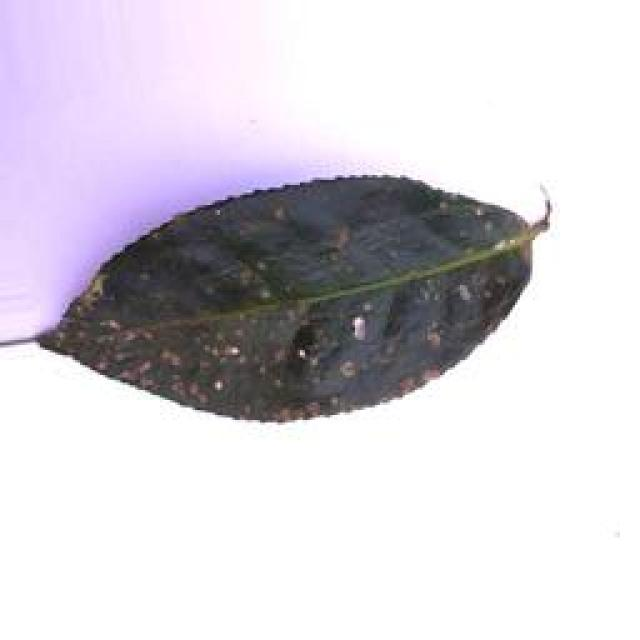Algal Leaf Spot: (38, 178, 553, 428)
